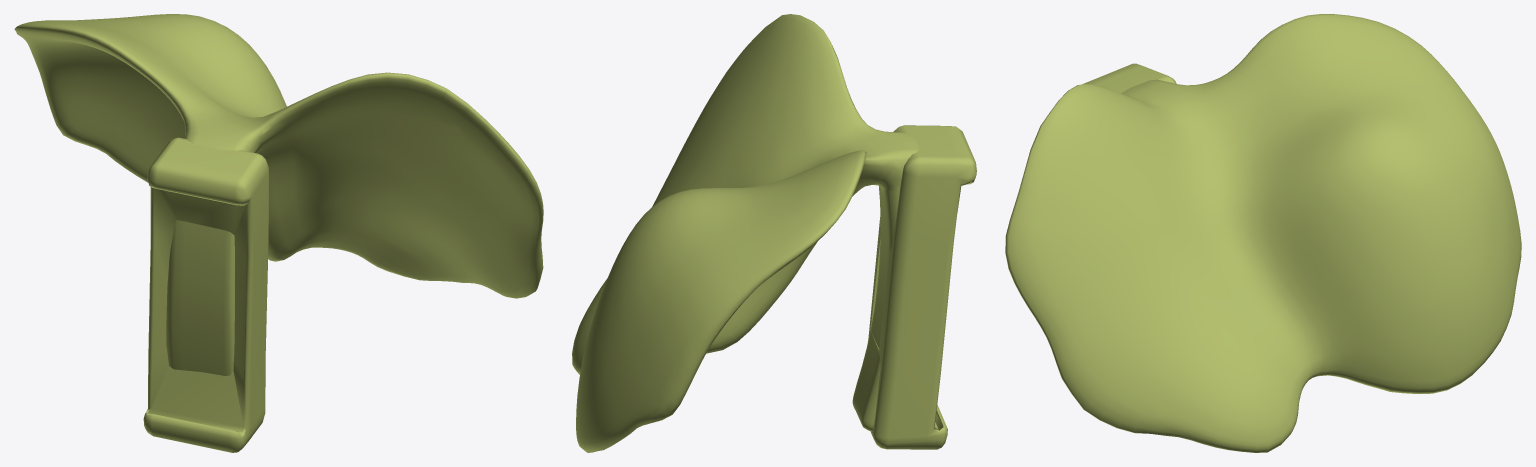
File: BL3_Spacers_BaguetteMetal.001 2.glb
The picture shows the model from 3 angles, left to right: view 1: azimuth 30°, elevation 25°; view 2: azimuth 150°, elevation 25°; view 3: azimuth 270°, elevation 25°; orthographic projection. The views are drawn at different scales.
Parts seen in each view (by area): view 1: BL3_Spacers_BaguetteMetal.001; view 2: BL3_Spacers_BaguetteMetal.001; view 3: BL3_Spacers_BaguetteMetal.001.
Part boxes in pixels (bbox=[...]): BL3_Spacers_BaguetteMetal.001: bbox=[14, 14, 543, 452]; BL3_Spacers_BaguetteMetal.001: bbox=[572, 14, 976, 452]; BL3_Spacers_BaguetteMetal.001: bbox=[1005, 14, 1521, 452].
Size of the model in its own units: 0.8469 by 0.8053 by 1.1.
